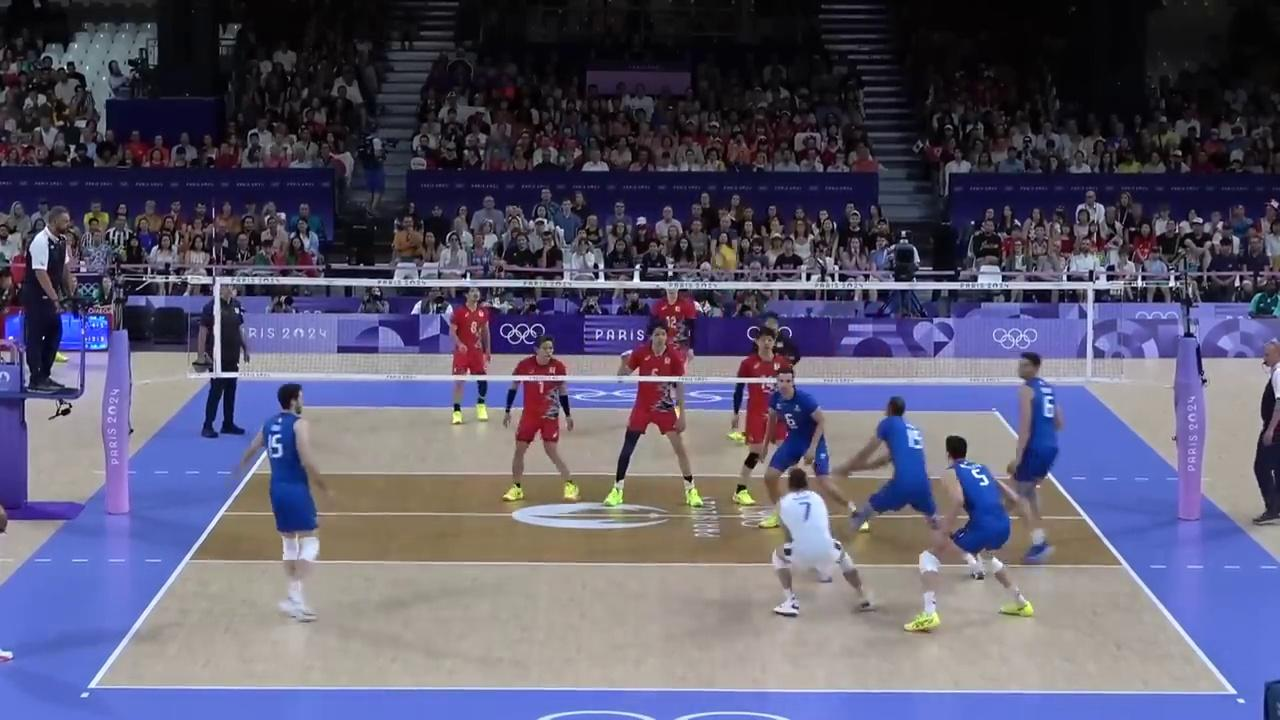ball: (711, 244, 738, 273)
